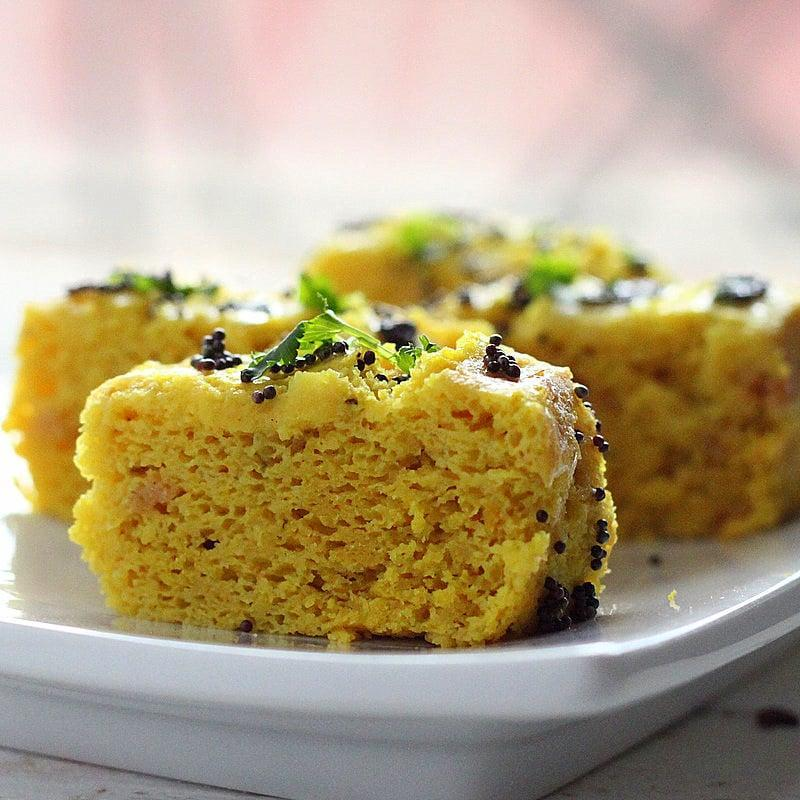dhokla: (28, 229, 796, 638)
